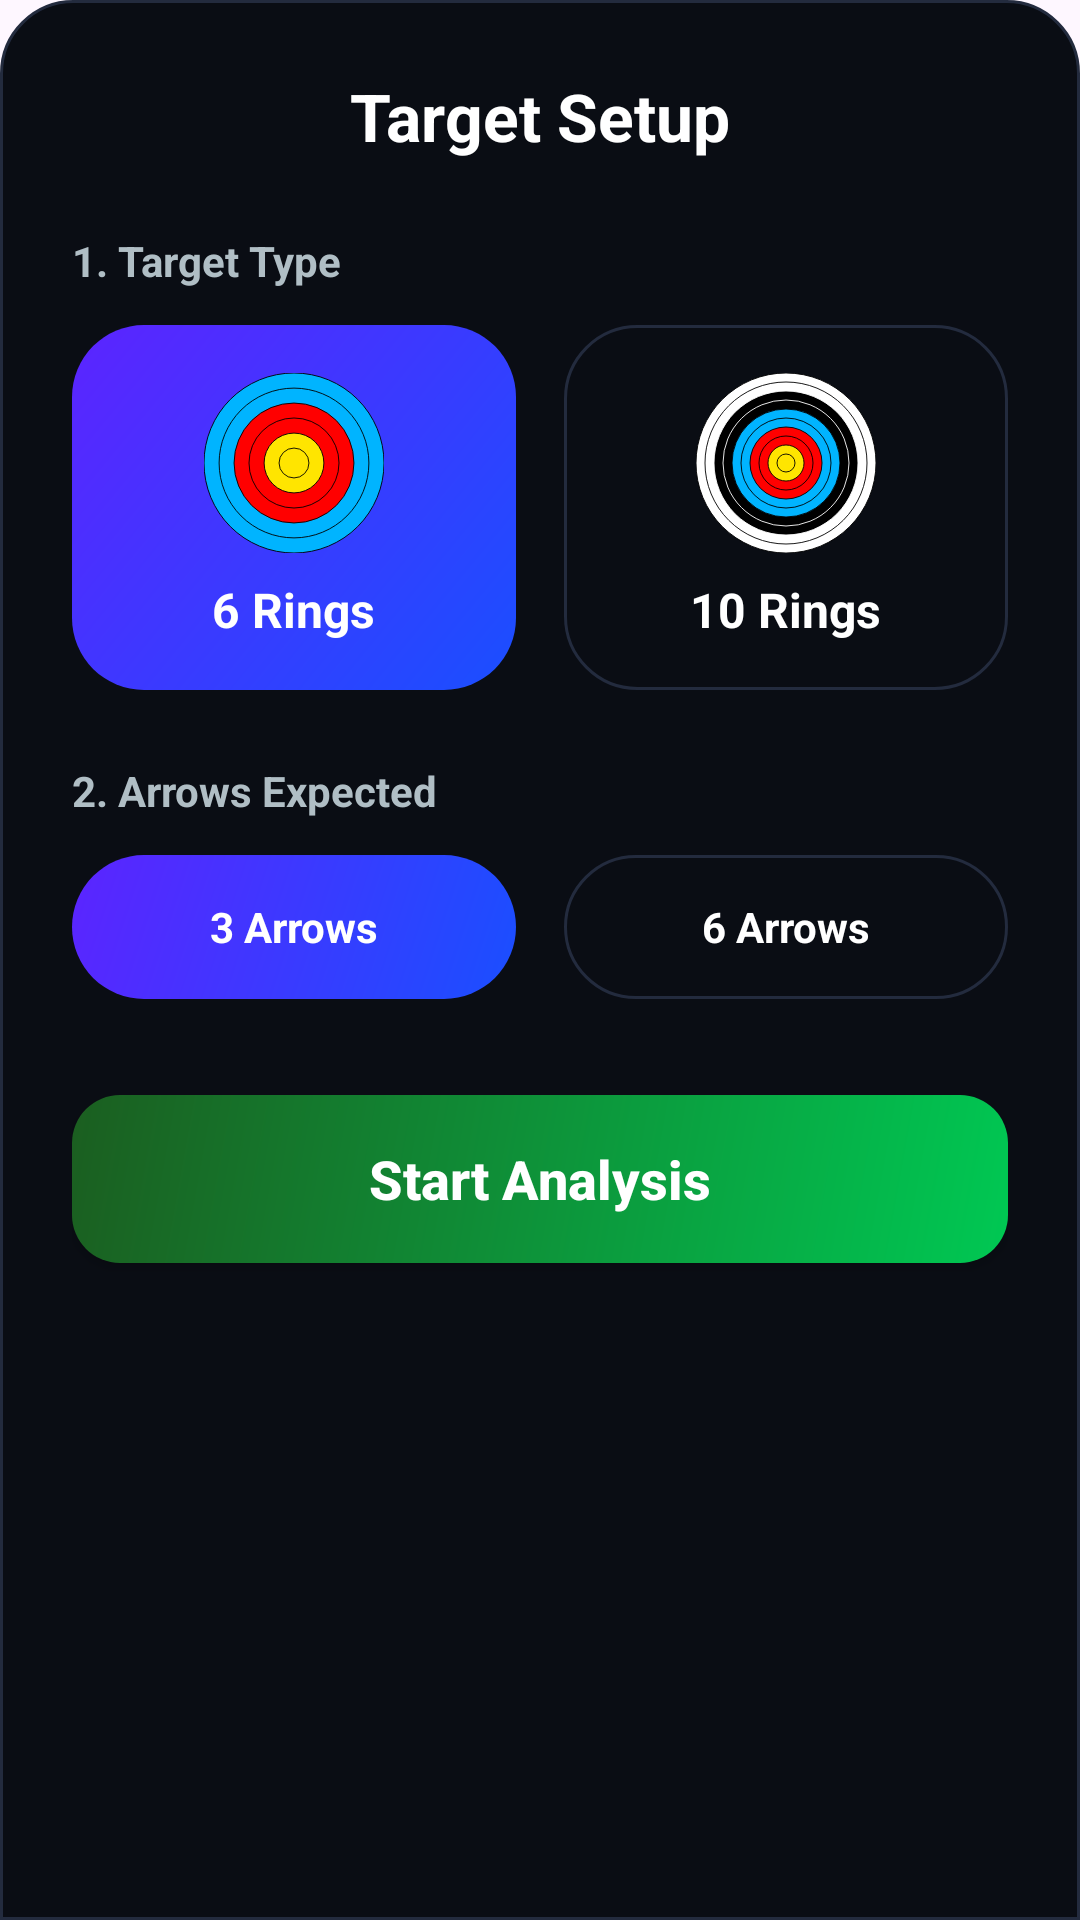

Named icons in this screenshot (1080 x 1920) and their bounding boxes, box(x1, y1, x2, y2):
target ring: box(204, 373, 384, 553), box(696, 373, 876, 553)
